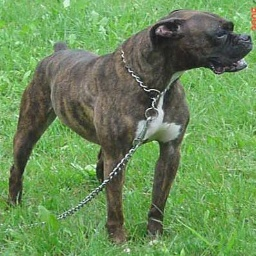dog: (8, 8, 251, 233)
